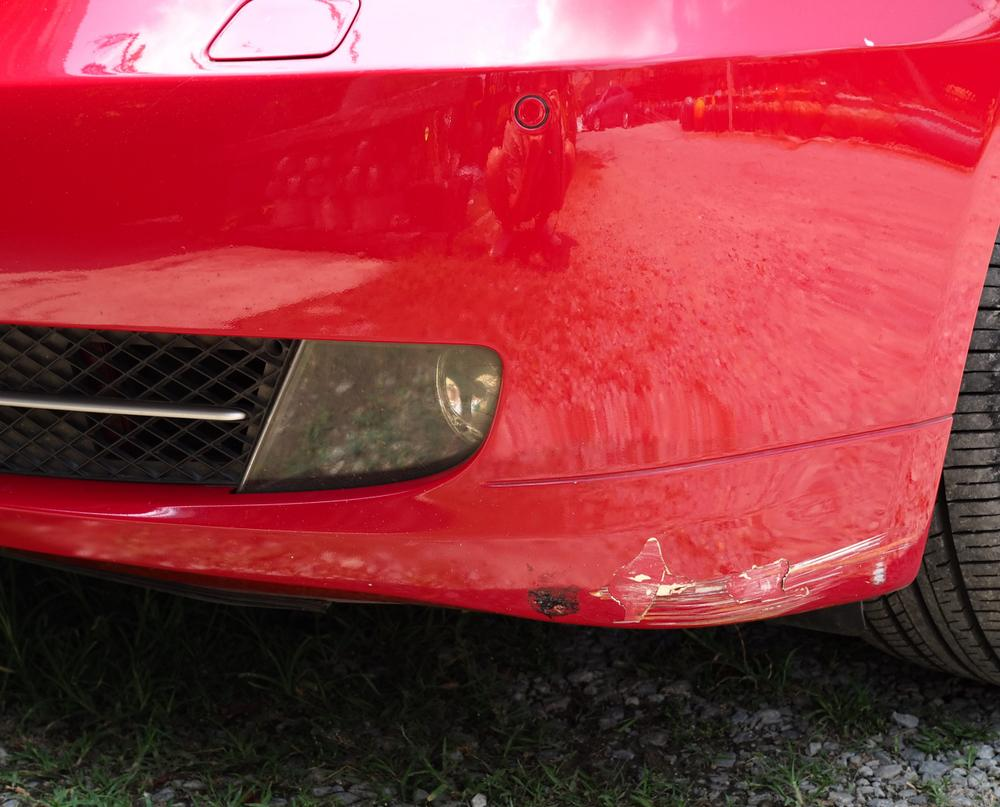scratch: (524, 524, 910, 626)
